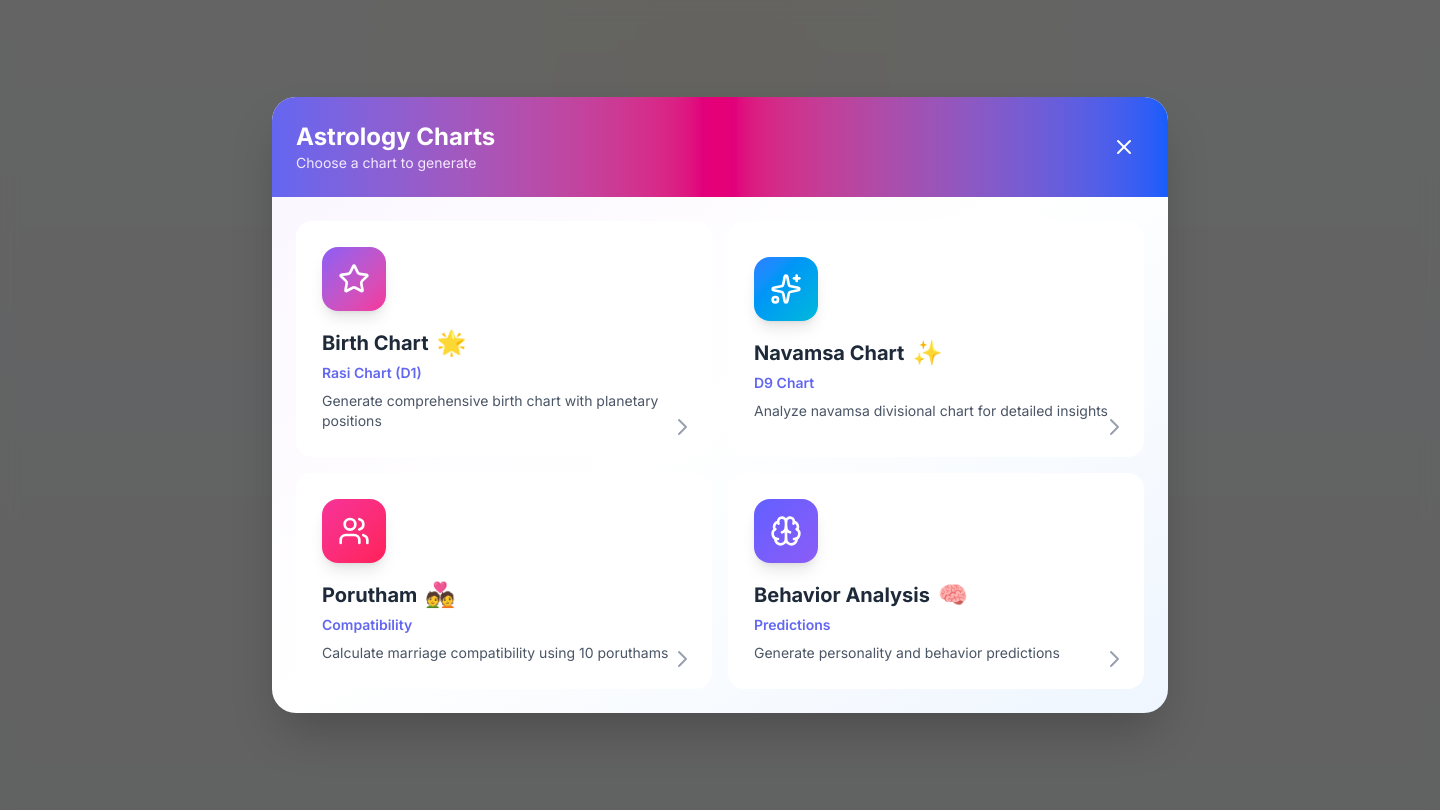
Scenario: ChartModal Component › should show Birth Chart form when Birth Chart option is clicked
Click the button "Birth Chart": {"x": 354, "y": 279} [296,221,712,457]
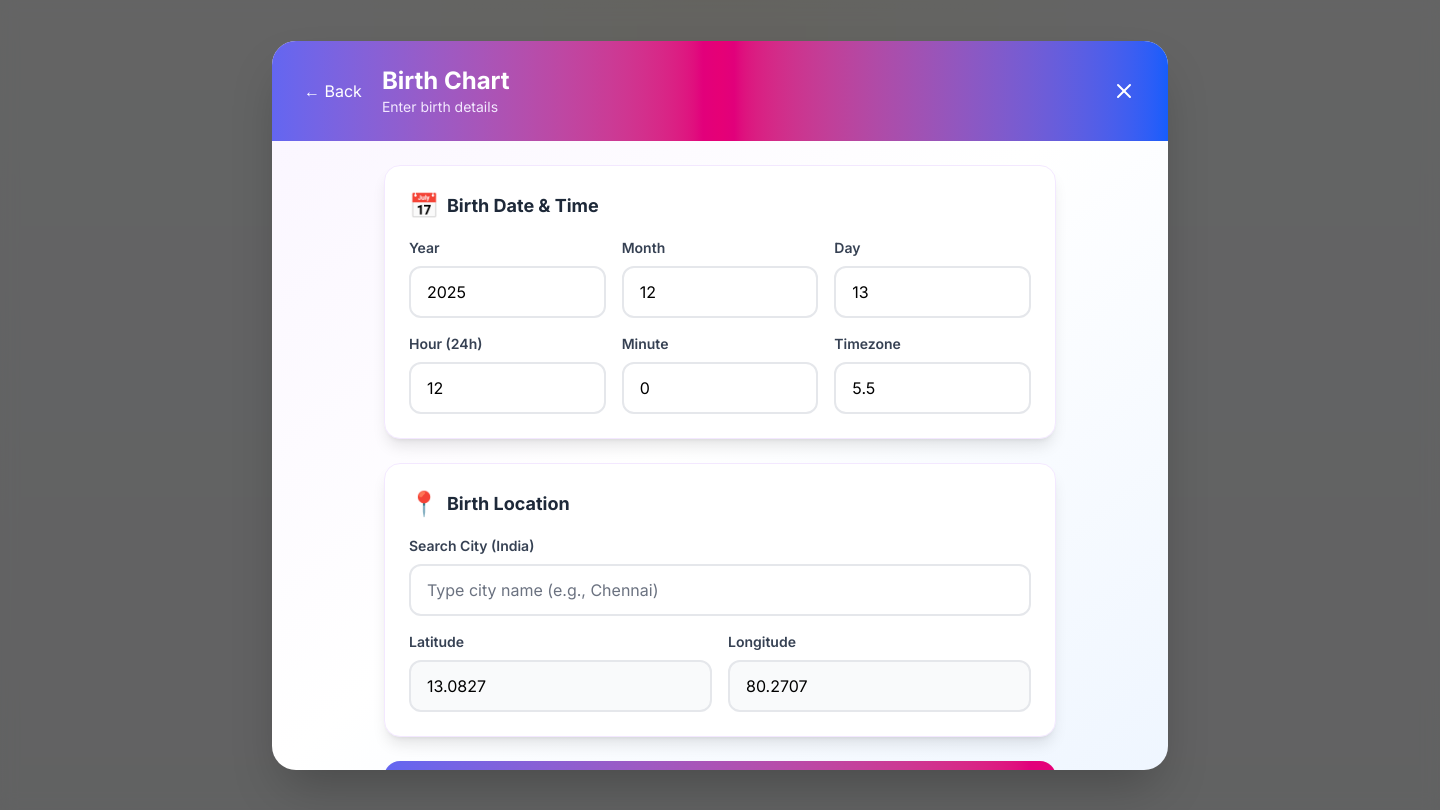
Check: the heading "Birth Chart" is shown, box [382,64,510,96]
Check: the text "Enter birth details" is shown, box [382,96,510,116]
Check: the button "← Back" is shown, box [296,70,370,110]
